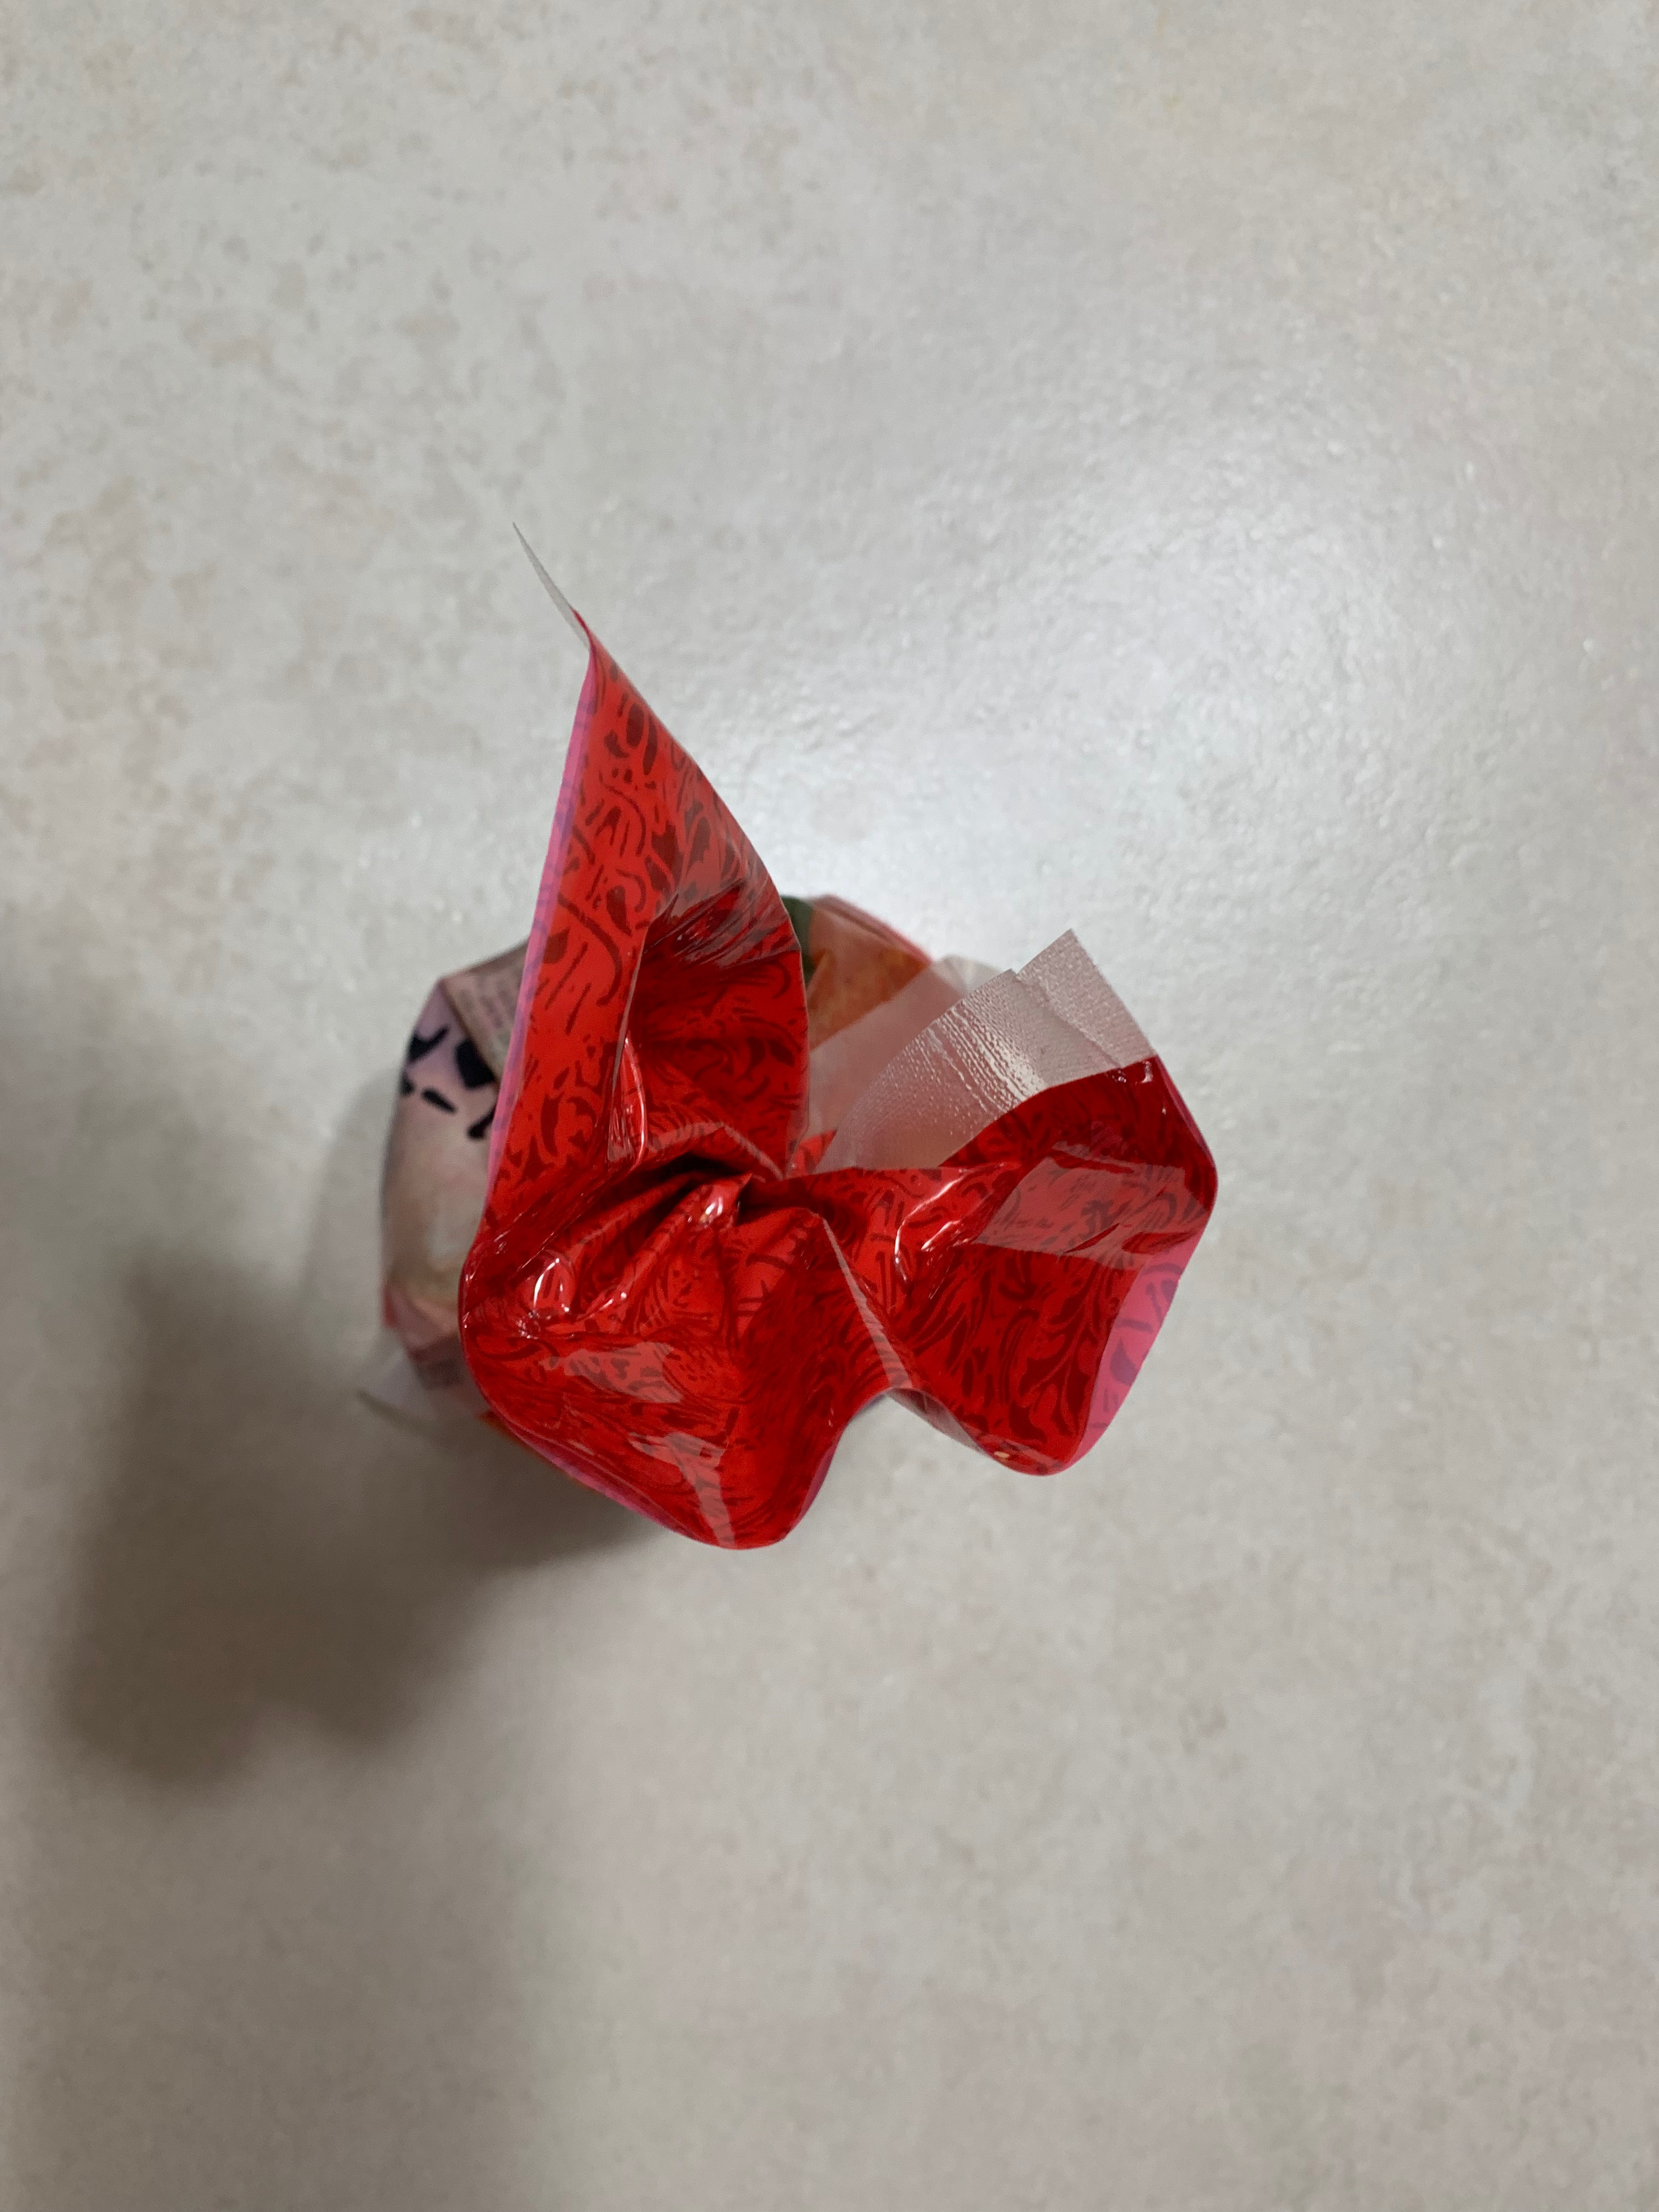kimchi: (385, 653, 1222, 1559)
